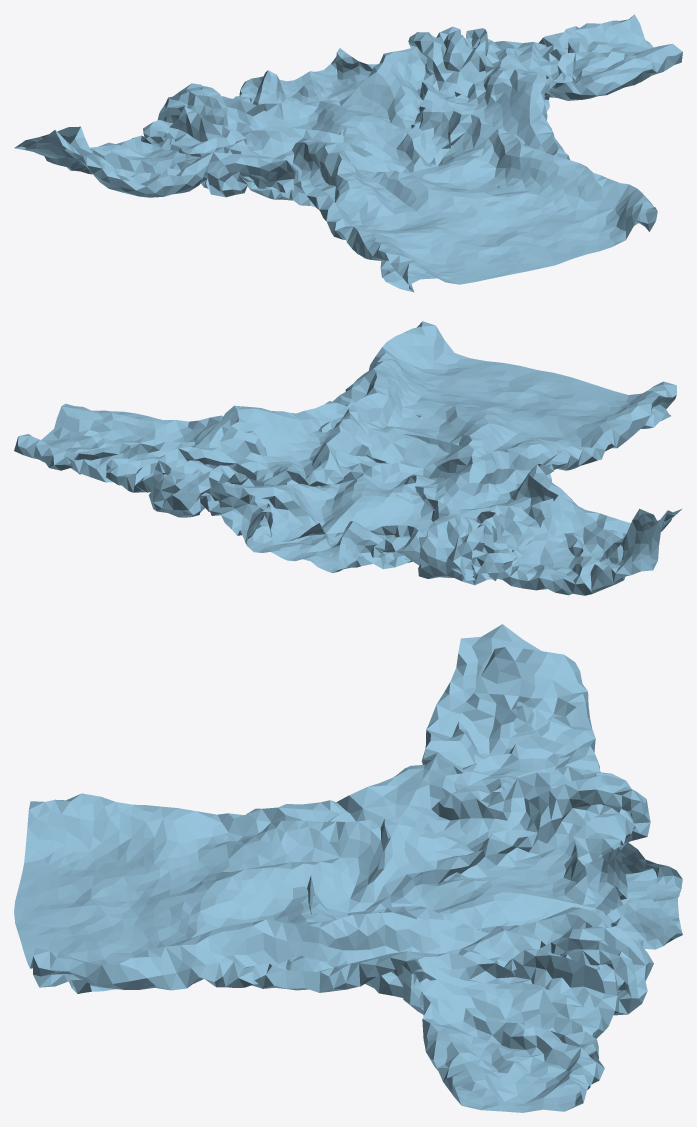
The model's file is frame_02.glb.
3 views of the same model, one above another, from view 1: azimuth 30°, elevation 25°; view 2: azimuth 150°, elevation 25°; view 3: azimuth 270°, elevation 25° (orthographic). The views are drawn at different scales.
Parts seen in each view (by area): view 1: frame_02.obj; view 2: frame_02.obj; view 3: frame_02.obj.
Boxes of the visible parts, x1=… form: frame_02.obj: x1=14, y1=14, x2=682, y2=292; frame_02.obj: x1=14, y1=321, x2=681, y2=595; frame_02.obj: x1=14, y1=624, x2=682, y2=1112.
Bounding box in the file's own units: 1.91 × 0.2404 × 1.35.
